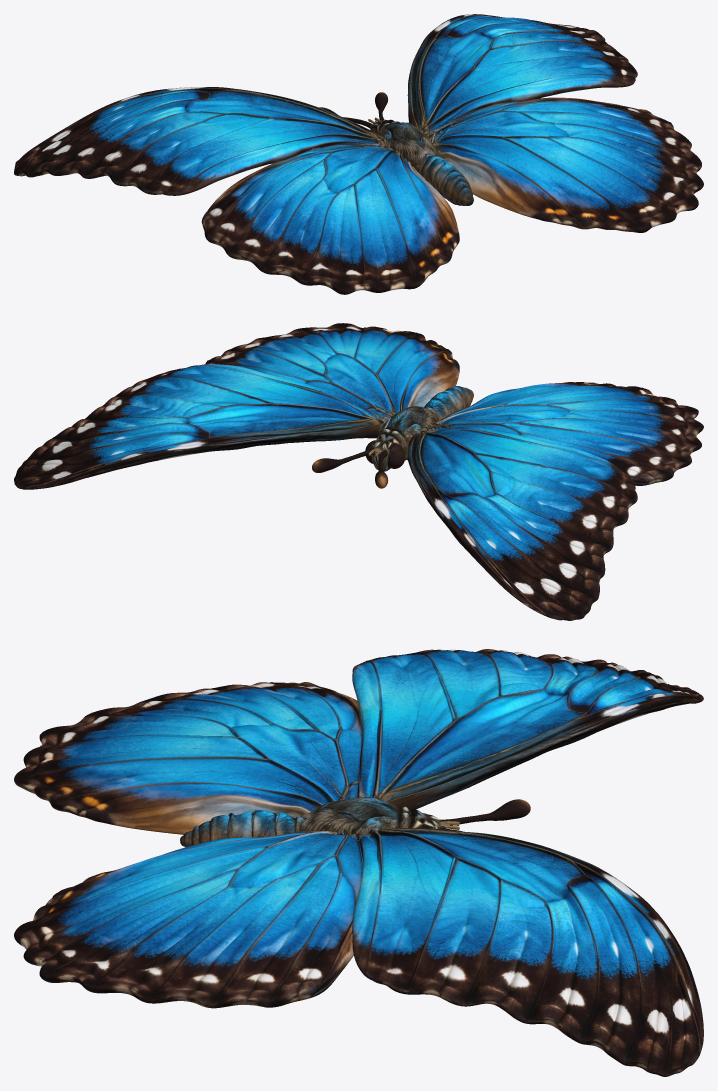
File: butterfly.glb
The picture shows the model from 3 angles, top to bottom: view 1: azimuth 30°, elevation 25°; view 2: azimuth 150°, elevation 25°; view 3: azimuth 270°, elevation 25°; orthographic projection. The views are drawn at different scales.
Parts seen in each view (by area): view 1: butterfly; view 2: butterfly; view 3: butterfly.
Boxes of the visible parts, x1,y1,x2,y2 form: butterfly: (14, 14, 703, 294); butterfly: (14, 323, 703, 620); butterfly: (14, 649, 703, 1076).
Size of the model in its own units: 0.14 by 0.0163 by 0.1041.
Materials: 1 (1 with a texture image).
